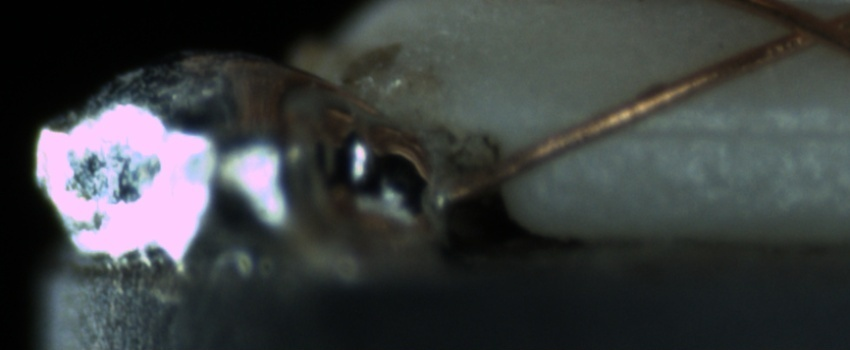CL: (760, 1, 844, 57)
DL: (606, 95, 845, 163)
